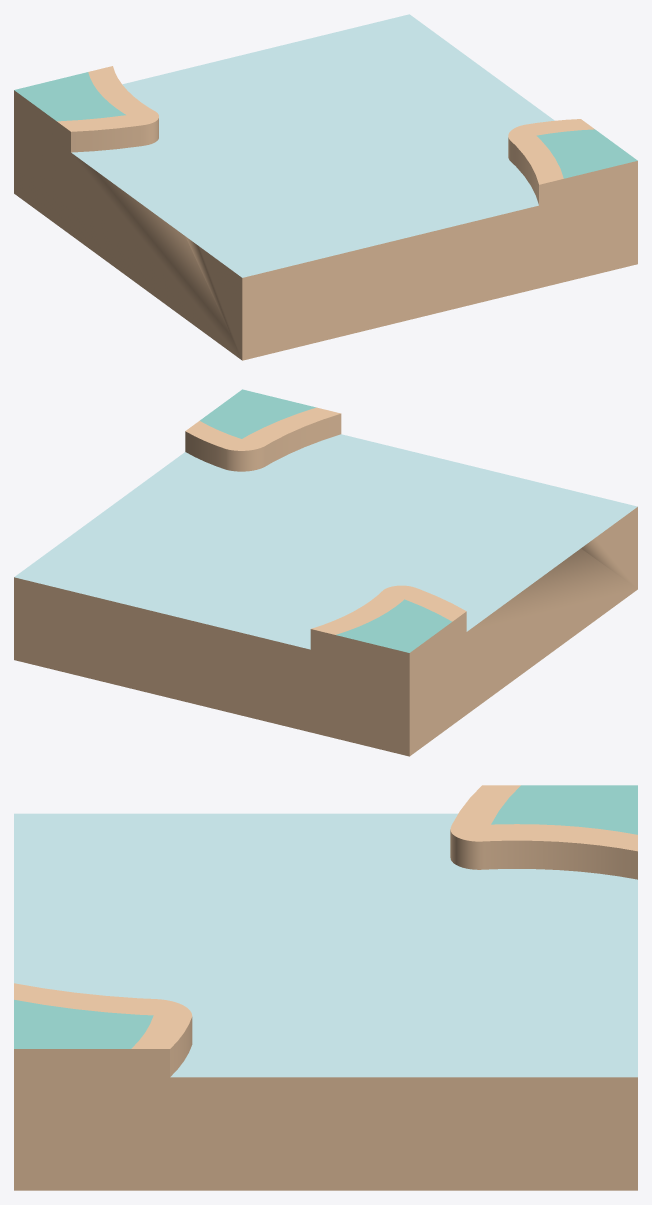
Rendered from ground_dirtTwoPointWater.fbx.
3 views of the same model, one above another, from view 1: azimuth 30°, elevation 25°; view 2: azimuth 150°, elevation 25°; view 3: azimuth 270°, elevation 25° (orthographic). The views are drawn at different scales.
Parts seen in each view (by area): view 1: ground_dirtRiverCrossing; view 2: ground_dirtRiverCrossing; view 3: ground_dirtRiverCrossing.
Part boxes in pixels (box(x1,y1,x2,y2)): ground_dirtRiverCrossing: box(14, 14, 637, 360); ground_dirtRiverCrossing: box(14, 389, 637, 756); ground_dirtRiverCrossing: box(14, 785, 637, 1190).
Size of the model in its own units: 1000 by 250 by 1000.
